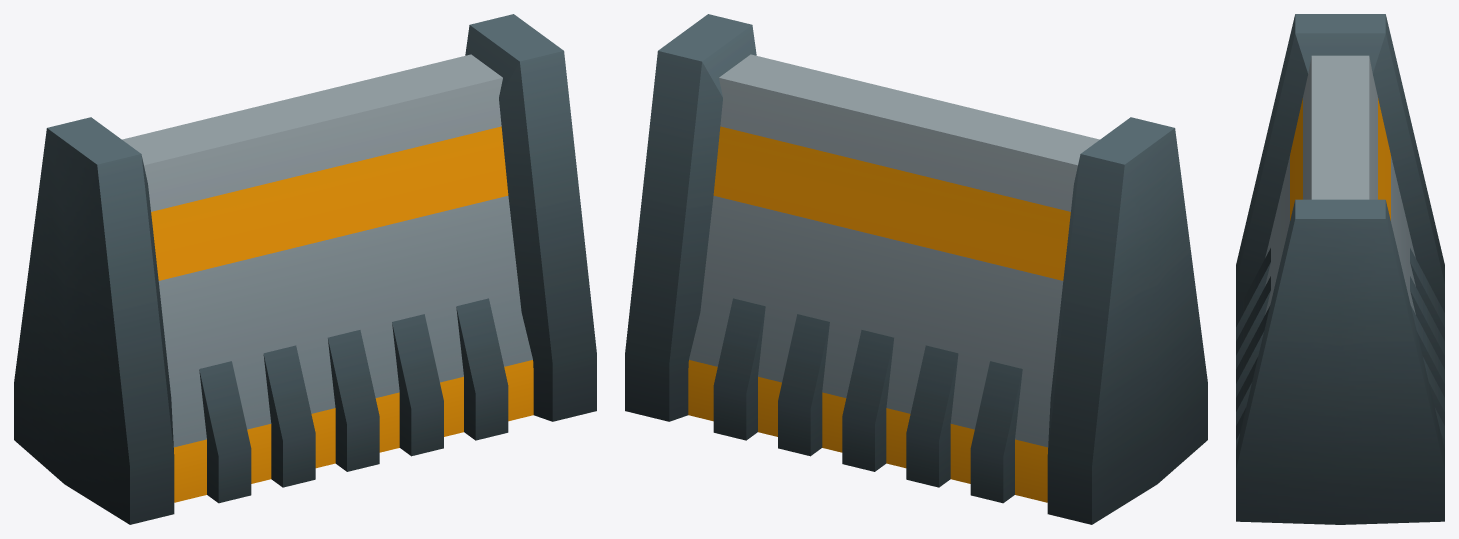
File: Barriaer_003.glb
The picture shows the model from 3 angles, left to right: view 1: azimuth 30°, elevation 25°; view 2: azimuth 150°, elevation 25°; view 3: azimuth 270°, elevation 25°; orthographic projection. The views are drawn at different scales.
Parts seen in each view (by area): view 1: Barriaer_003; view 2: Barriaer_003; view 3: Barriaer_003.
Part boxes in pixels (x1=…): Barriaer_003: x1=14, y1=14, x2=596, y2=524; Barriaer_003: x1=625, y1=14, x2=1207, y2=524; Barriaer_003: x1=1236, y1=14, x2=1444, y2=524.
Size of the model in its own units: 1.2 by 0.8 by 0.5.
Materials: 1 (1 with a texture image).
